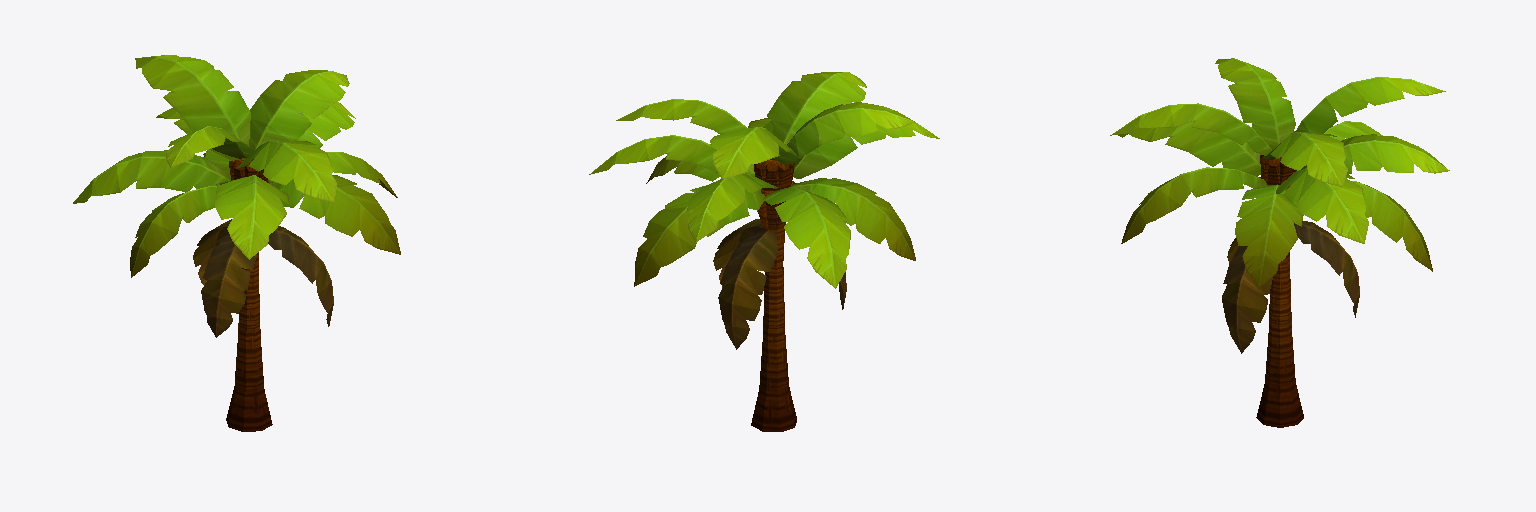
The picture shows the model from 3 angles: view 1: azimuth 30°, elevation 25°; view 2: azimuth 150°, elevation 25°; view 3: azimuth 270°, elevation 25°; orthographic projection.
Parts seen in each view (by area): view 1: coconut_tree; view 2: coconut_tree; view 3: coconut_tree.
Part boxes in pixels (left/top/right/bottom): coconut_tree: left=73, top=55, right=400, bottom=431; coconut_tree: left=589, top=72, right=939, bottom=431; coconut_tree: left=1110, top=58, right=1449, bottom=427.
Size of the model in its own units: 4.35 by 5.01 by 4.69.
Materials: 1 (1 with a texture image).